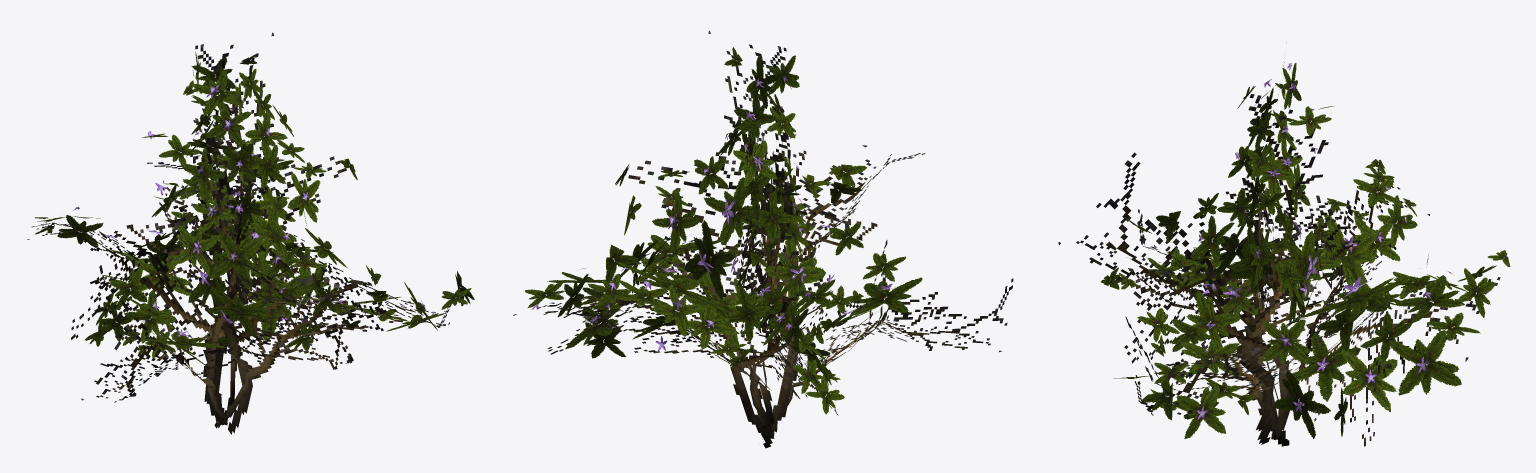
File: bush_03.glb
The picture shows the model from 3 angles, left to right: view 1: azimuth 30°, elevation 25°; view 2: azimuth 150°, elevation 25°; view 3: azimuth 270°, elevation 25°; orthographic projection. The views are drawn at different scales.
Visible parts, largest first — view 1: leaf, branches, flower; view 2: leaf, branches, flower; view 3: leaf, branches, flower.
Part boxes in pixels (left/top/right/bottom): leaf: left=35, top=51, right=474, bottom=365; branches: left=27, top=32, right=456, bottom=434; flower: left=73, top=70, right=425, bottom=338; leaf: left=525, top=47, right=922, bottom=414; branches: left=513, top=30, right=1013, bottom=448; flower: left=531, top=76, right=894, bottom=350; leaf: left=1100, top=63, right=1510, bottom=438; branches: left=1058, top=62, right=1500, bottom=446; flower: left=1182, top=63, right=1507, bottom=419.
Bounding box in the file's own units: 0.9533 × 1.01 × 1.01.
Materials: 1 (1 with a texture image).
